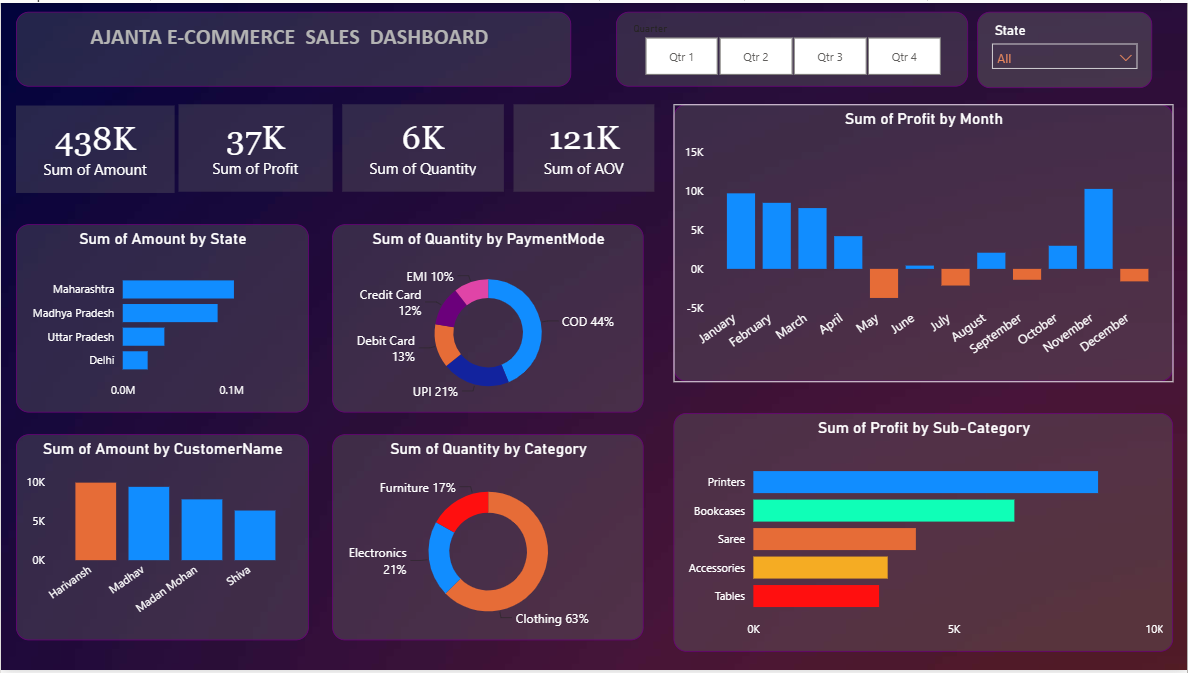

This screenshot's page, from the dashboard's own definition file:
{"tool":"powerbi","page":{"name":"Page 1","canvas":[1280,720],"ordinal":0},"visuals":[{"type":"textbox","box":[16.2,9.4,599,80.9],"z":0},{"type":"columnChart","fields":{"Category":["Orders.Order Date.Variation.Date Hierarchy.Month"],"Y":["Sum(Details.Profit)"]},"box":[725.9,109.8,539.3,299.1],"z":1000},{"type":"barChart","fields":{"Y":["Sum(Details.Profit)"],"Category":["Details.Sub-Category"]},"box":[725.9,441.9,539.3,258],"z":2000},{"type":"donutChart","fields":{"Category":["Details.Category"],"Y":["Sum(Details.Quantity)"]},"box":[357.5,477.6,336.2,222.3],"z":3000},{"type":"donutChart","fields":{"Category":["Details.PaymentMode"],"Y":["Sum(Details.Quantity)"]},"box":[358.1,238.8,336.2,203.1],"z":4000},{"type":"cardVisual","fields":{"Data":["Sum(Details.Amount)"]},"box":[16.5,110.2,171.5,94.7],"z":5000},{"type":"cardVisual","fields":{"Data":["Sum(Details.Quantity)"]},"box":[367.8,109.8,174.3,94.7],"z":6000},{"type":"cardVisual","fields":{"Data":["Sum(Details.Profit)"]},"box":[192.1,109.8,166,94.7],"z":7000},{"type":"cardVisual","fields":{"Data":["Sum(Details.AOV)"]},"box":[553,109.8,152.3,94.7],"z":8000},{"type":"barChart","fields":{"Category":["Orders.State"],"Y":["Sum(Details.Amount)"]},"box":[16.5,238.8,315.6,203.1],"z":9000},{"type":"columnChart","fields":{"Category":["Orders.CustomerName"],"Y":["Sum(Details.Amount)"]},"box":[16.2,477.6,315.6,222.3],"z":10000},{"type":"slicer","fields":{"Values":["Orders.Order Date.Variation.Date Hierarchy.Quarter"]},"box":[664.2,9.6,380.1,81],"z":11000},{"type":"slicer","fields":{"Values":["Orders.State"]},"box":[1053.6,9.4,188.9,82.3],"z":12000}]}

Visuals, with their boxes in screenshot pixels (x1, y1, x2, y2), scaled from the page's 1280x720 canvas onto the 1188x673 screenshot:
textbox: [left=15, top=9, right=571, bottom=84]
columnChart - Orders.Order Date.Variation.Date Hierarchy.Month x Sum(Details.Profit): [left=674, top=103, right=1174, bottom=382]
barChart - Sum(Details.Profit) x Details.Sub-Category: [left=674, top=413, right=1174, bottom=654]
donutChart - Details.Category x Sum(Details.Quantity): [left=332, top=446, right=644, bottom=654]
donutChart - Details.PaymentMode x Sum(Details.Quantity): [left=332, top=223, right=644, bottom=413]
cardVisual - Sum(Details.Amount): [left=15, top=103, right=174, bottom=192]
cardVisual - Sum(Details.Quantity): [left=341, top=103, right=503, bottom=191]
cardVisual - Sum(Details.Profit): [left=178, top=103, right=332, bottom=191]
cardVisual - Sum(Details.AOV): [left=513, top=103, right=655, bottom=191]
barChart - Orders.State x Sum(Details.Amount): [left=15, top=223, right=308, bottom=413]
columnChart - Orders.CustomerName x Sum(Details.Amount): [left=15, top=446, right=308, bottom=654]
slicer - Orders.Order Date.Variation.Date Hierarchy.Quarter: [left=616, top=9, right=969, bottom=85]
slicer - Orders.State: [left=978, top=9, right=1153, bottom=86]
